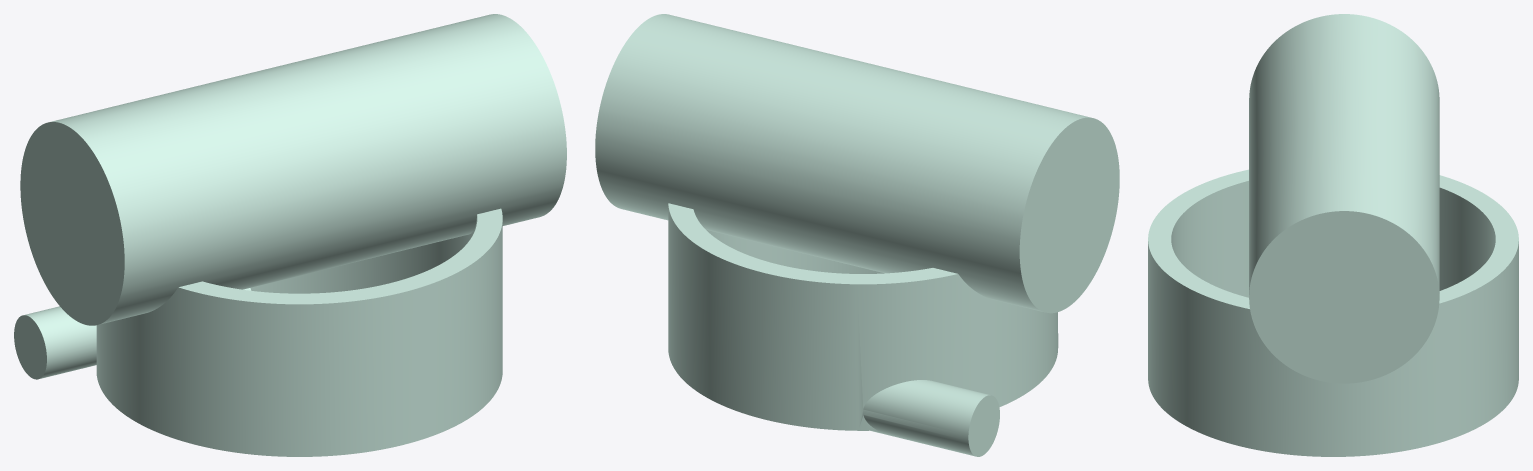
3 views of the same model, side by side, from view 1: azimuth 30°, elevation 25°; view 2: azimuth 150°, elevation 25°; view 3: azimuth 270°, elevation 25° (orthographic). The views are drawn at different scales.
Parts seen in each view (by area): view 1: Renderer Node; view 2: Renderer Node; view 3: Renderer Node.
Part boxes in pixels (x1=…): Renderer Node: x1=14, y1=14, x2=566, y2=456; Renderer Node: x1=595, y1=14, x2=1119, y2=456; Renderer Node: x1=1148, y1=14, x2=1518, y2=456.
Size of the model in its own units: 0.7344 by 0.4786 by 0.5842.
